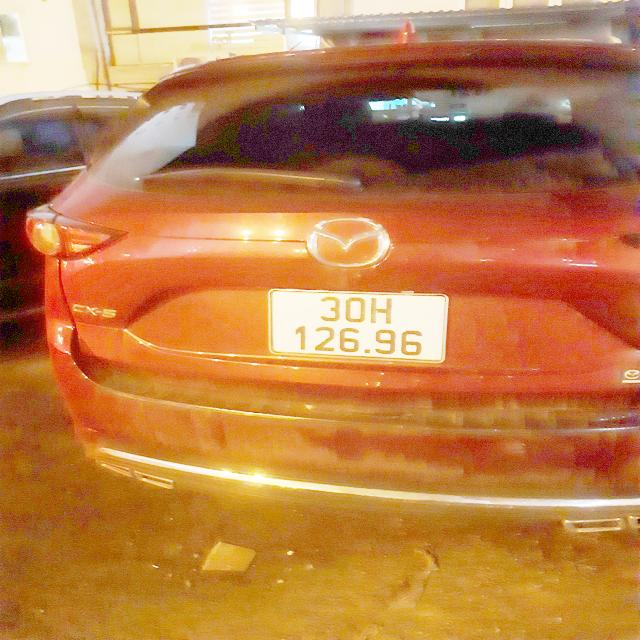license_plate: (261, 286, 456, 371)
